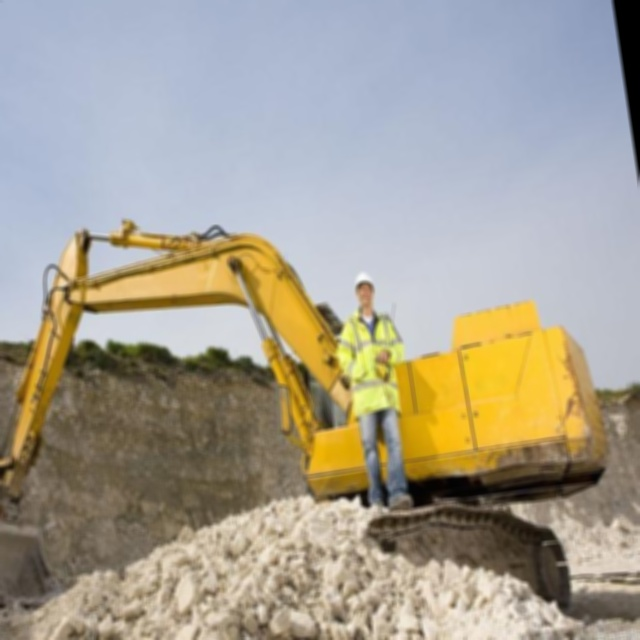Con_Casco: (352, 271, 376, 306)
Con_Chaleco: (339, 308, 404, 413)
